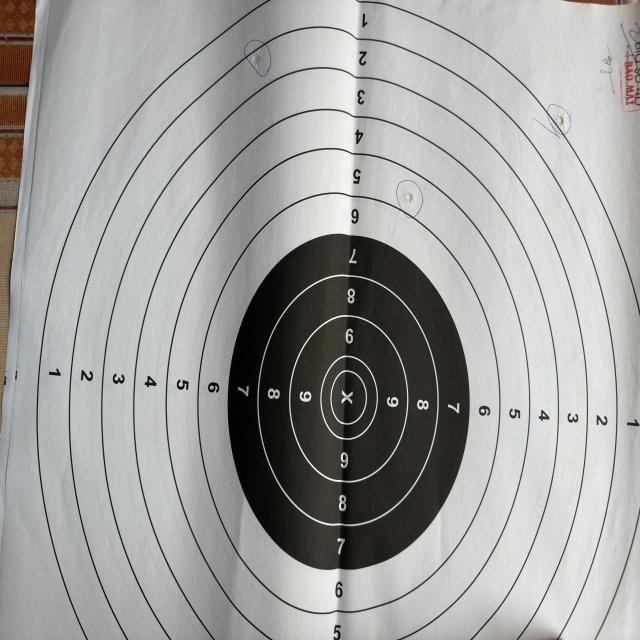bullet: (400, 188, 419, 207), (552, 108, 568, 127), (252, 52, 264, 68)
target: (8, 0, 636, 640)
